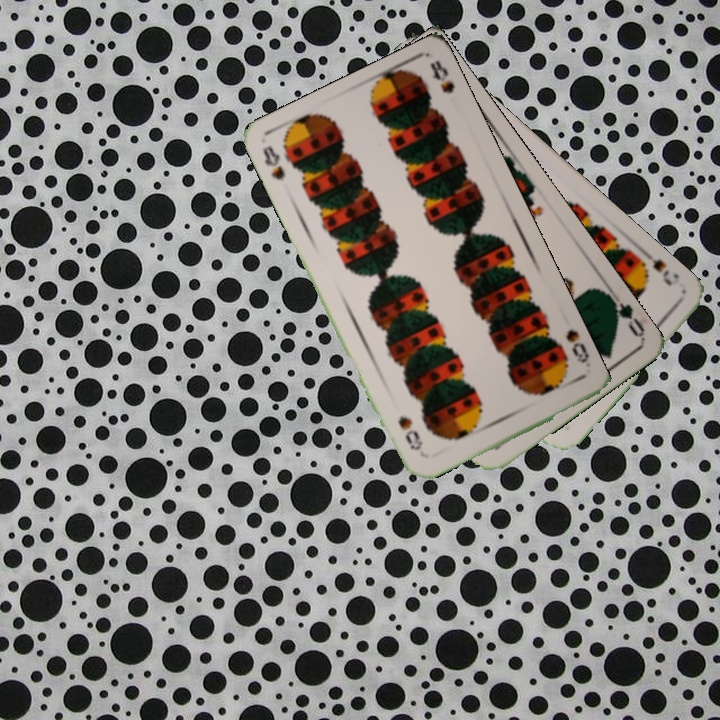GO: (601, 285, 648, 340)
S8: (561, 325, 593, 370), (258, 141, 288, 183)
S9: (632, 244, 675, 289)
